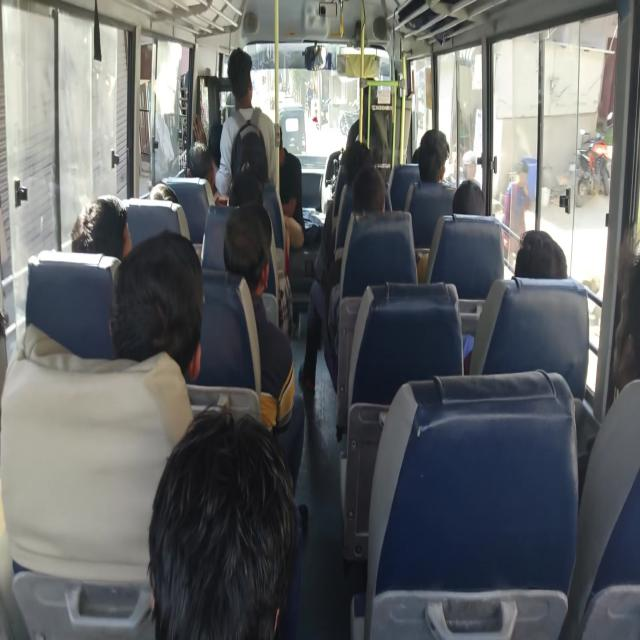person: (146, 410, 298, 637), (568, 241, 640, 623), (474, 231, 570, 407), (108, 230, 205, 381), (444, 179, 494, 347), (610, 244, 640, 398), (222, 204, 272, 291), (70, 195, 130, 263), (221, 48, 267, 119), (277, 136, 304, 243), (514, 229, 568, 279), (411, 128, 448, 184), (182, 144, 221, 192), (351, 163, 386, 214), (228, 165, 267, 210), (451, 178, 487, 217), (148, 182, 180, 205), (344, 121, 362, 158), (412, 146, 421, 168)
